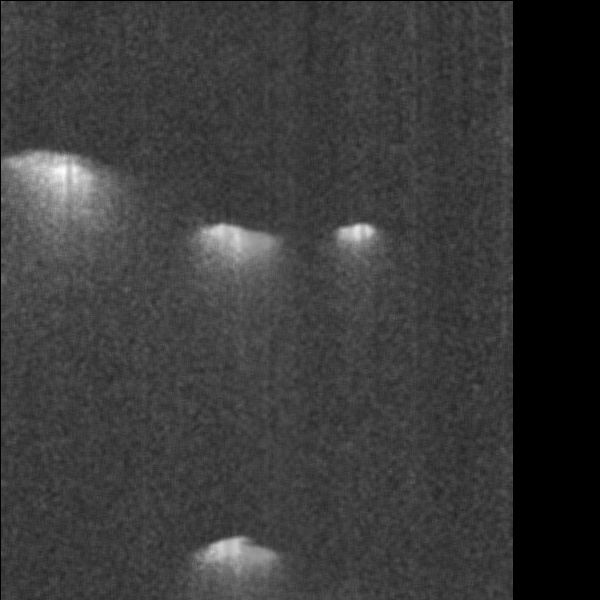spark: (120, 393, 186, 460), (134, 223, 185, 255)
